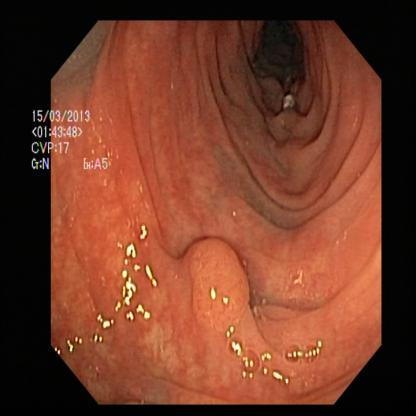Labels: (33, 101, 110, 182)
Polyps: (169, 248, 262, 340)
